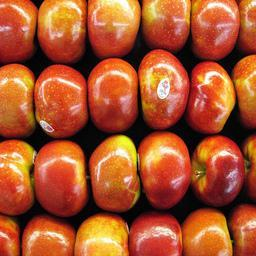apple: (31, 138, 89, 217), (137, 130, 191, 210), (32, 63, 88, 138), (138, 48, 188, 130), (87, 135, 140, 212), (190, 133, 245, 207), (88, 60, 142, 134), (184, 59, 234, 134), (36, 1, 86, 64), (86, 1, 140, 59), (190, 1, 240, 60), (1, 62, 36, 139), (1, 139, 35, 216), (140, 1, 190, 53), (72, 210, 128, 255), (182, 206, 232, 256), (129, 211, 183, 256), (20, 215, 75, 256), (1, 1, 36, 65), (230, 54, 255, 129), (227, 203, 255, 255), (1, 213, 21, 255)
